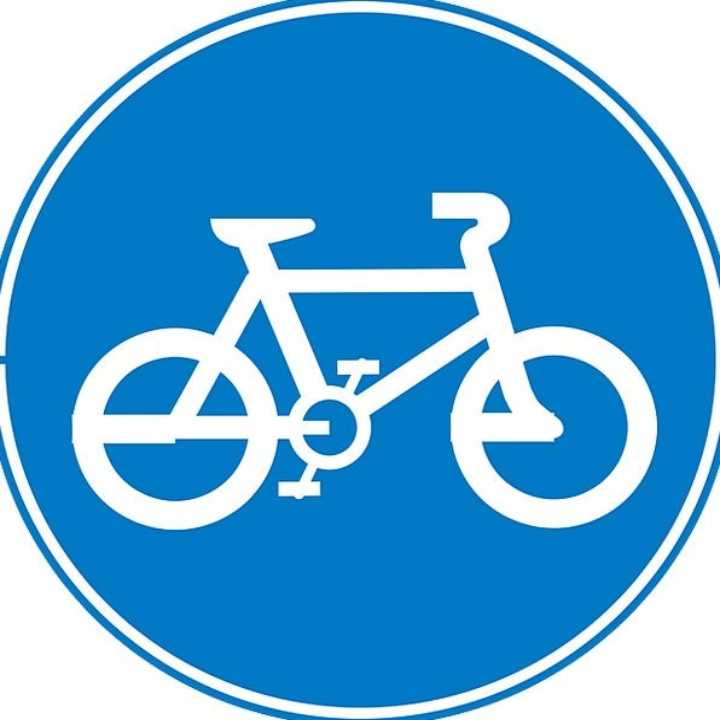bicycle: (71, 191, 657, 528)
